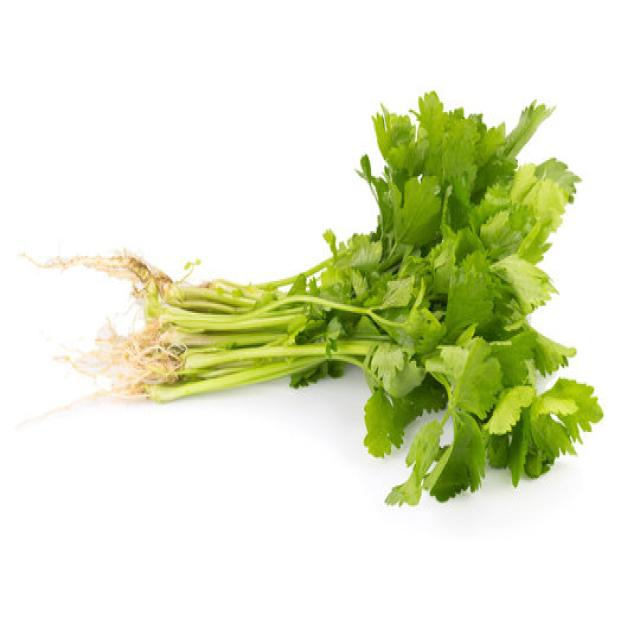Coriander Leaves: (43, 104, 578, 477)
